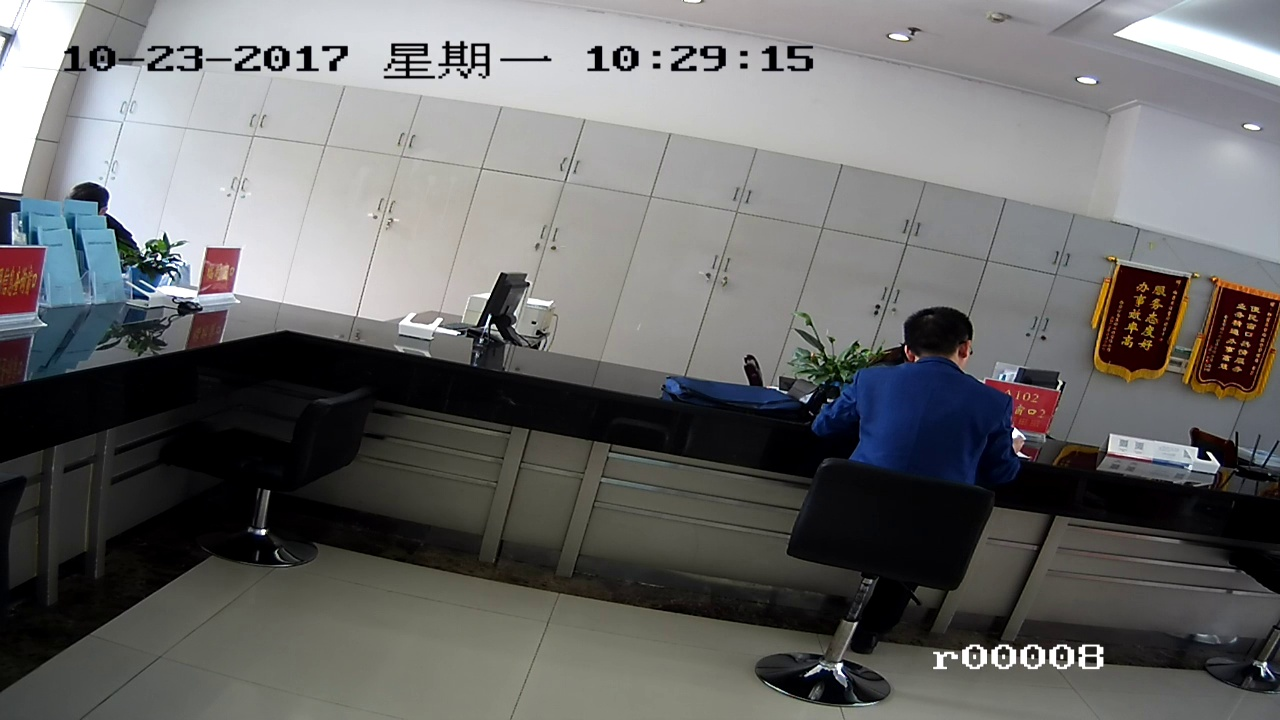billboard: (1108, 268, 1170, 371)
chair: (767, 465, 983, 705), (176, 391, 377, 573)
monitor: (1202, 280, 1266, 401), (485, 267, 532, 349)
person: (859, 317, 1016, 488)
pot: (793, 332, 876, 408), (132, 238, 180, 299)
